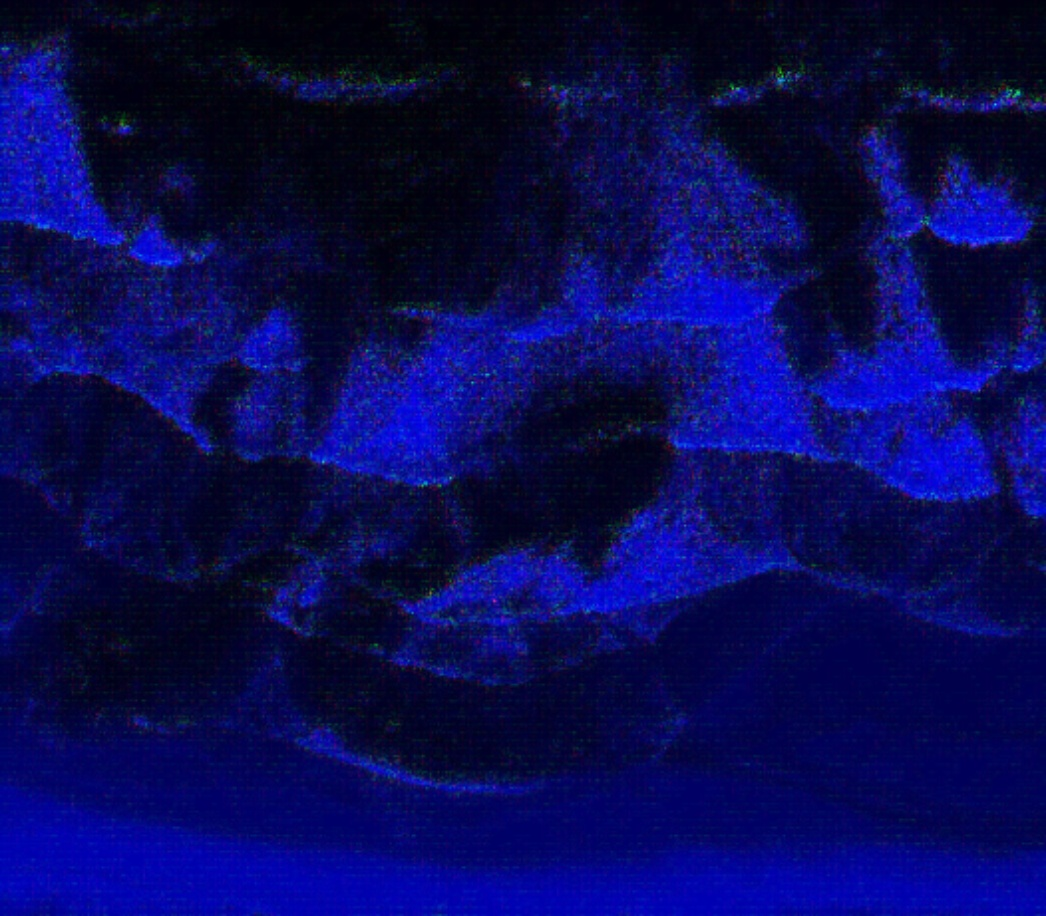rip_current: (263, 250, 708, 728)
